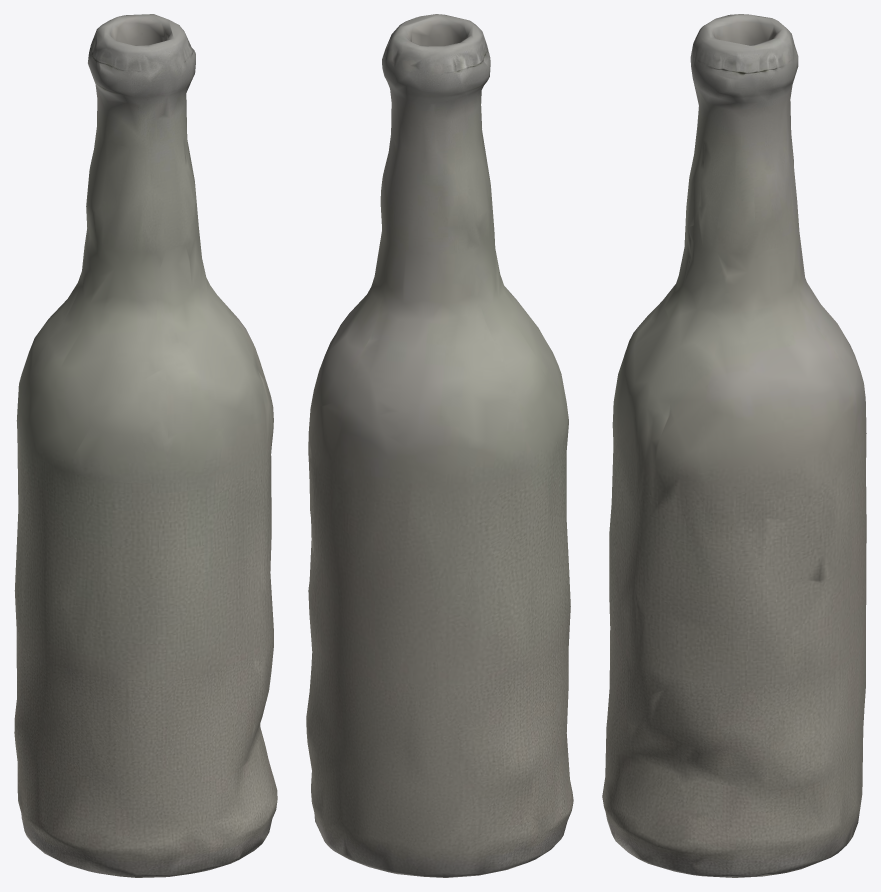
File: Clear_Bottle.glb
The picture shows the model from 3 angles, left to right: view 1: azimuth 30°, elevation 25°; view 2: azimuth 150°, elevation 25°; view 3: azimuth 270°, elevation 25°; orthographic projection.
Visible parts, largest first — view 1: tripo_node_7fafc703-9313-4e43-83eb-ecff5e34e3f1; view 2: tripo_node_7fafc703-9313-4e43-83eb-ecff5e34e3f1; view 3: tripo_node_7fafc703-9313-4e43-83eb-ecff5e34e3f1.
Boxes of the visible parts, x1,y1,x2,y2 form: tripo_node_7fafc703-9313-4e43-83eb-ecff5e34e3f1: [14, 14, 277, 877]; tripo_node_7fafc703-9313-4e43-83eb-ecff5e34e3f1: [306, 14, 573, 877]; tripo_node_7fafc703-9313-4e43-83eb-ecff5e34e3f1: [602, 14, 866, 877].
Size of the model in its own units: 0.2907 by 0.9799 by 0.2943.
1 material, 1 textured.
